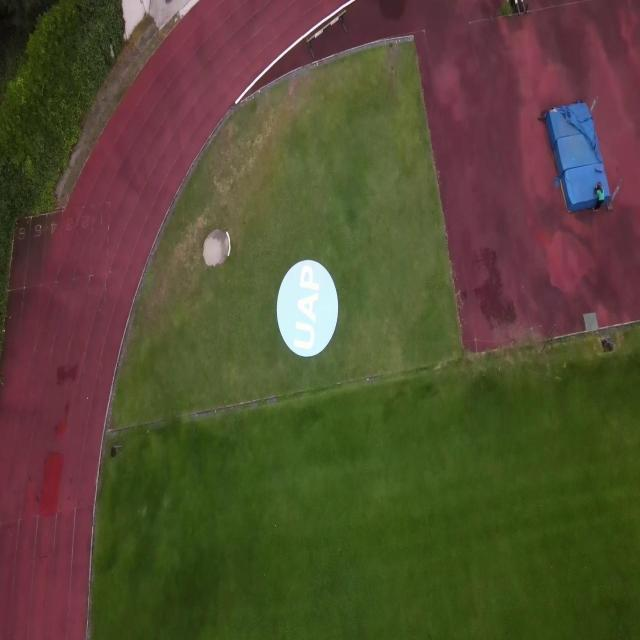p3rson: (592, 180, 603, 214)
